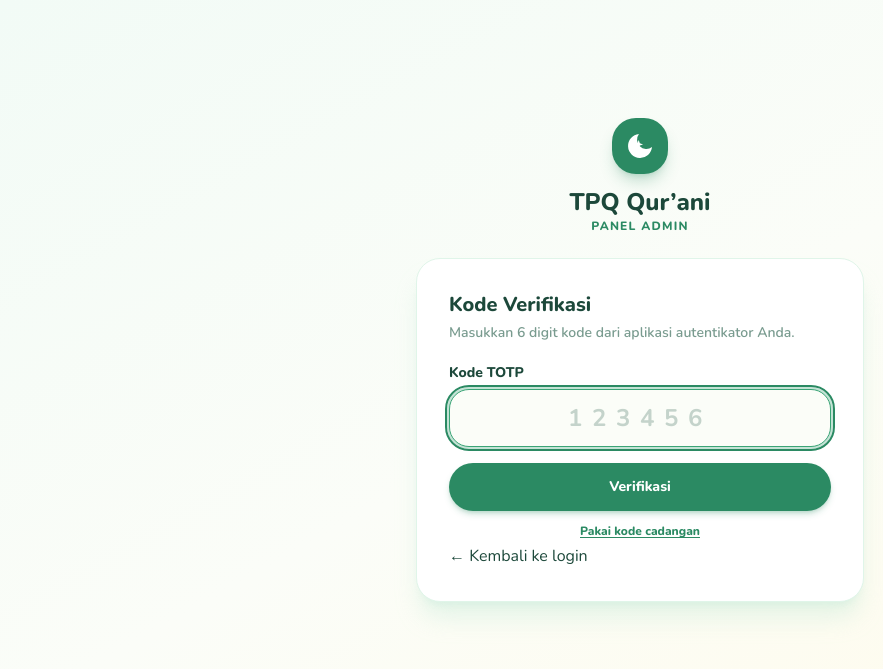
Test: Admin 2FA verify page › shows the API's Invalid credentials message inline on 401
In the field labelled "Kode TOTP": (640, 418) [449, 389, 831, 447], type "000000"
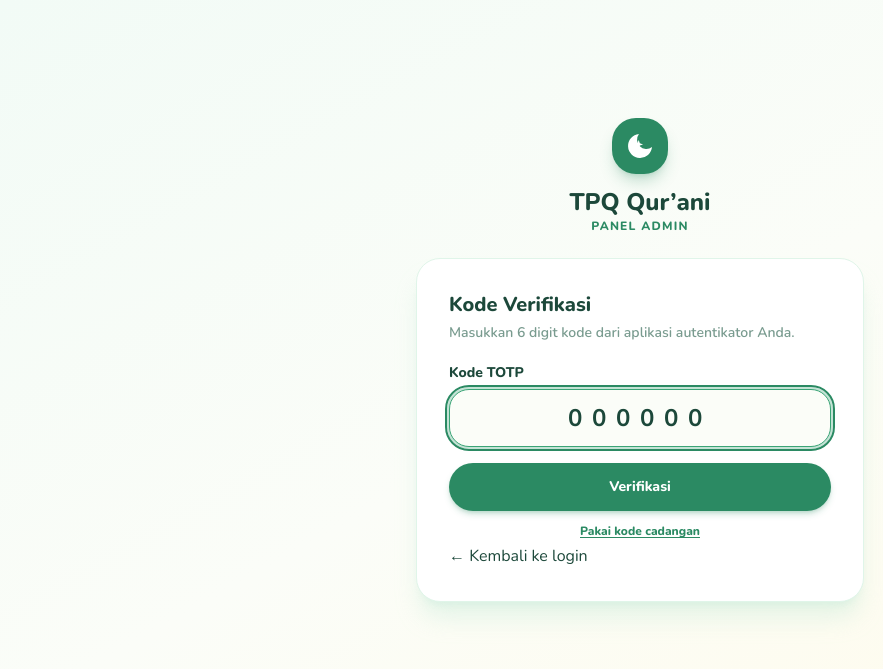
Click the button "Verifikasi": (640, 487) [449, 463, 831, 511]
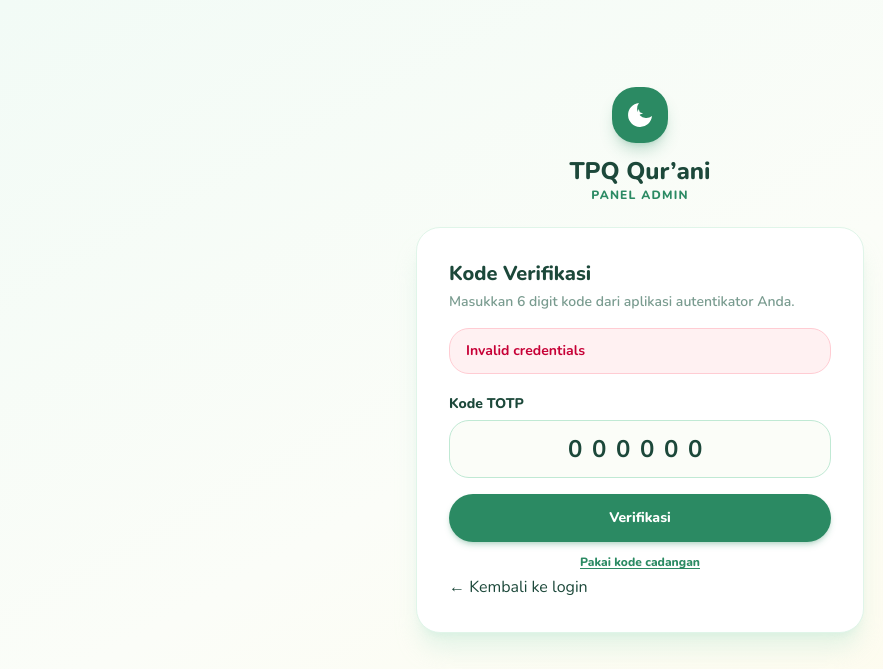
expect the message reads "Invalid credentials": met, box [466, 341, 585, 360]
expect the text "Invalid credentials" is shown once: met, box [449, 328, 831, 374]
